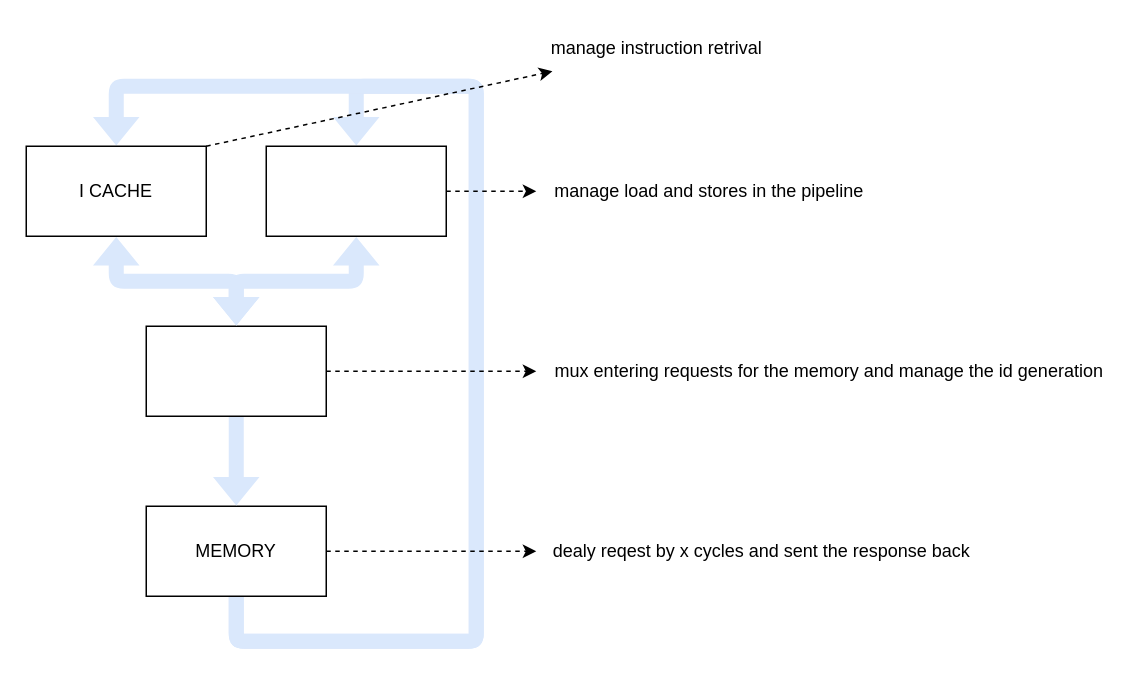
Some shapes in this 1148 by 674 pixel diagram are drawn without their labels. Each missing label, with the centre of its shape:
"ARBITER" belongs at [235,370].
"D CACHE" belongs at [355,190].
